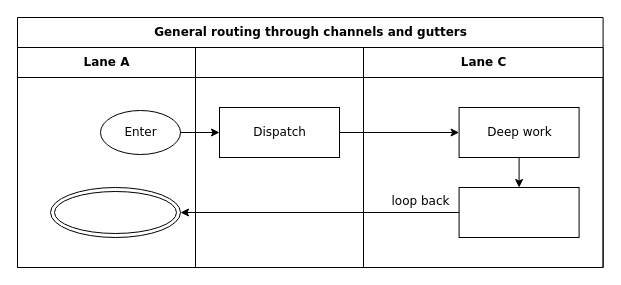
Image size: 621x285. Some labels were removed from this diagram. Each missing label, with the box of its shape:
Get results: (50, 186, 180, 238)
Lane B: (194, 46, 364, 268)
Write result: (458, 186, 579, 238)
